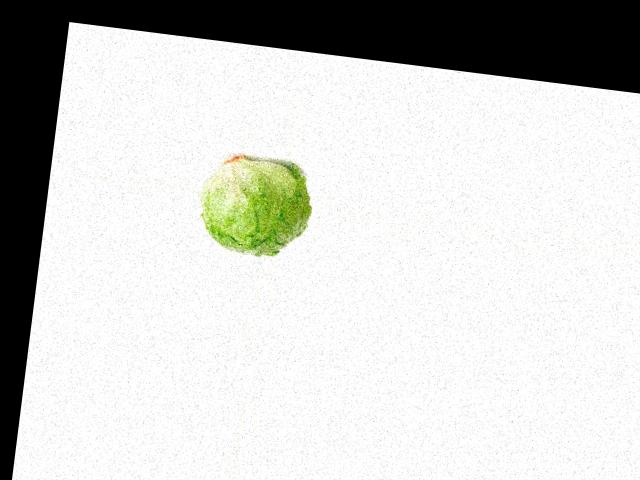lettuce: (200, 154, 316, 262)
